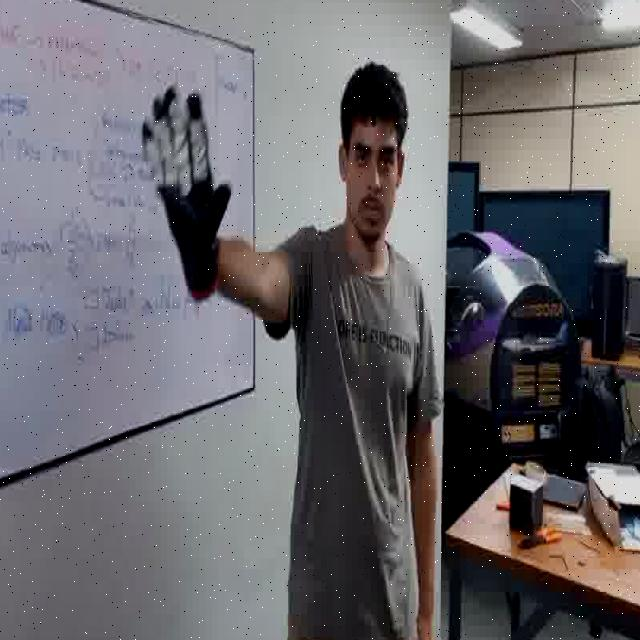Gloves: (138, 80, 232, 307)
